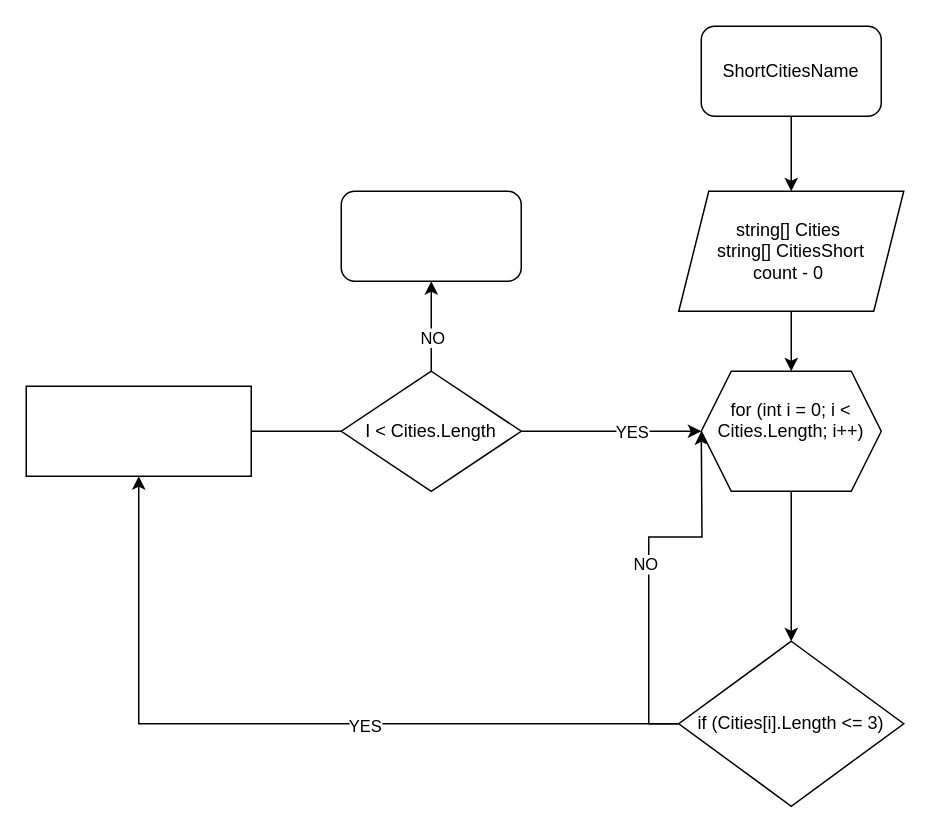
The diagram is 930 pixels wide and 833 high, and some of its shapes have lost their labels. Here are the shapes that lost their labels. From the top down, the box of each, then its label:
(340, 190, 521, 281): string[] CitiesShort
(25, 385, 251, 476): CitiesShort[count] = Cities[i]; count++;
